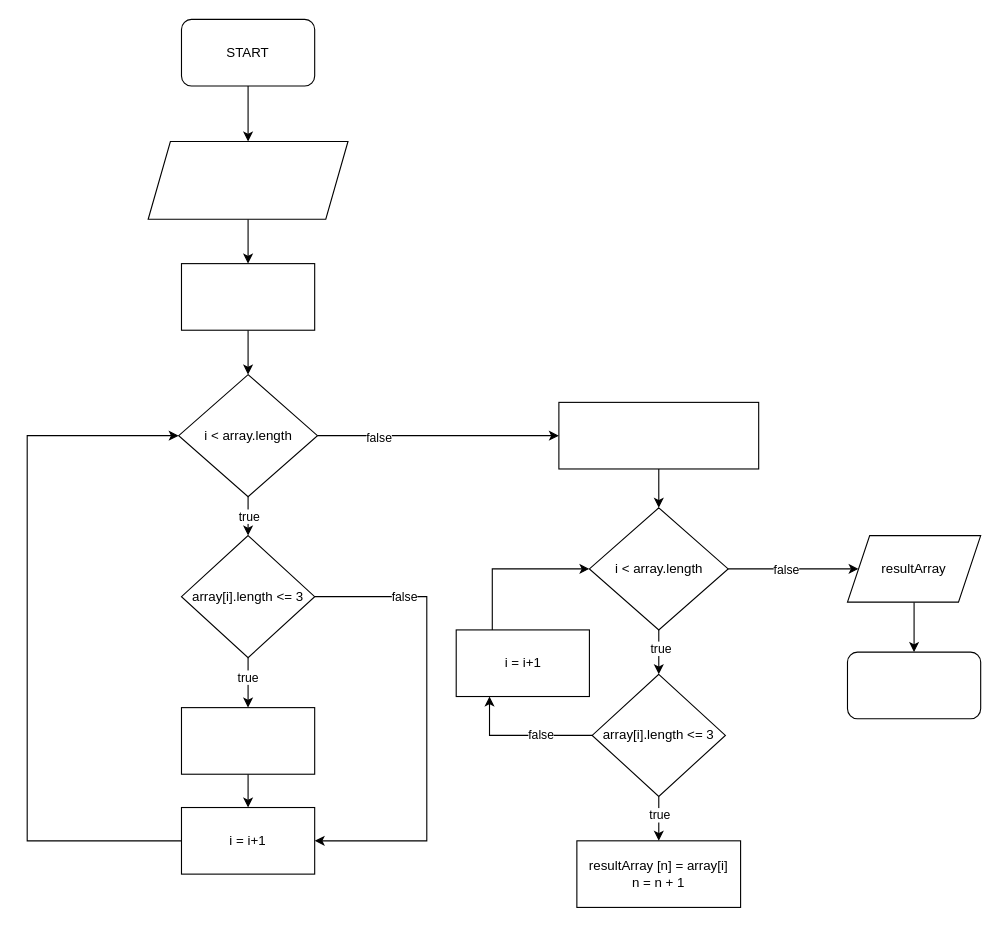
The diagram is 1000 pixels wide and 927 high, and some of its shapes have lost their labels. Here are the shapes that lost their labels. From the top down, the box of each, then its label:
(147, 140, 348, 219): string array
(180, 263, 315, 330): i = 0 count = 0
(558, 401, 759, 469): creat resultArray [counter] i =0 n =0
(846, 651, 981, 719): finish
(180, 707, 315, 774): count = count + 1
